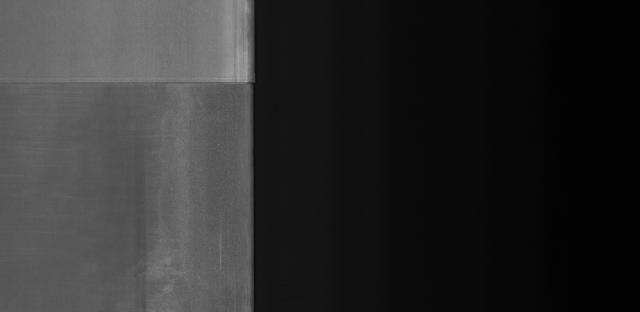welding_line: (0, 66, 278, 98)
